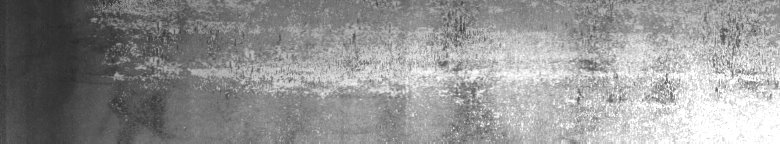hc: (438, 18, 496, 134)
